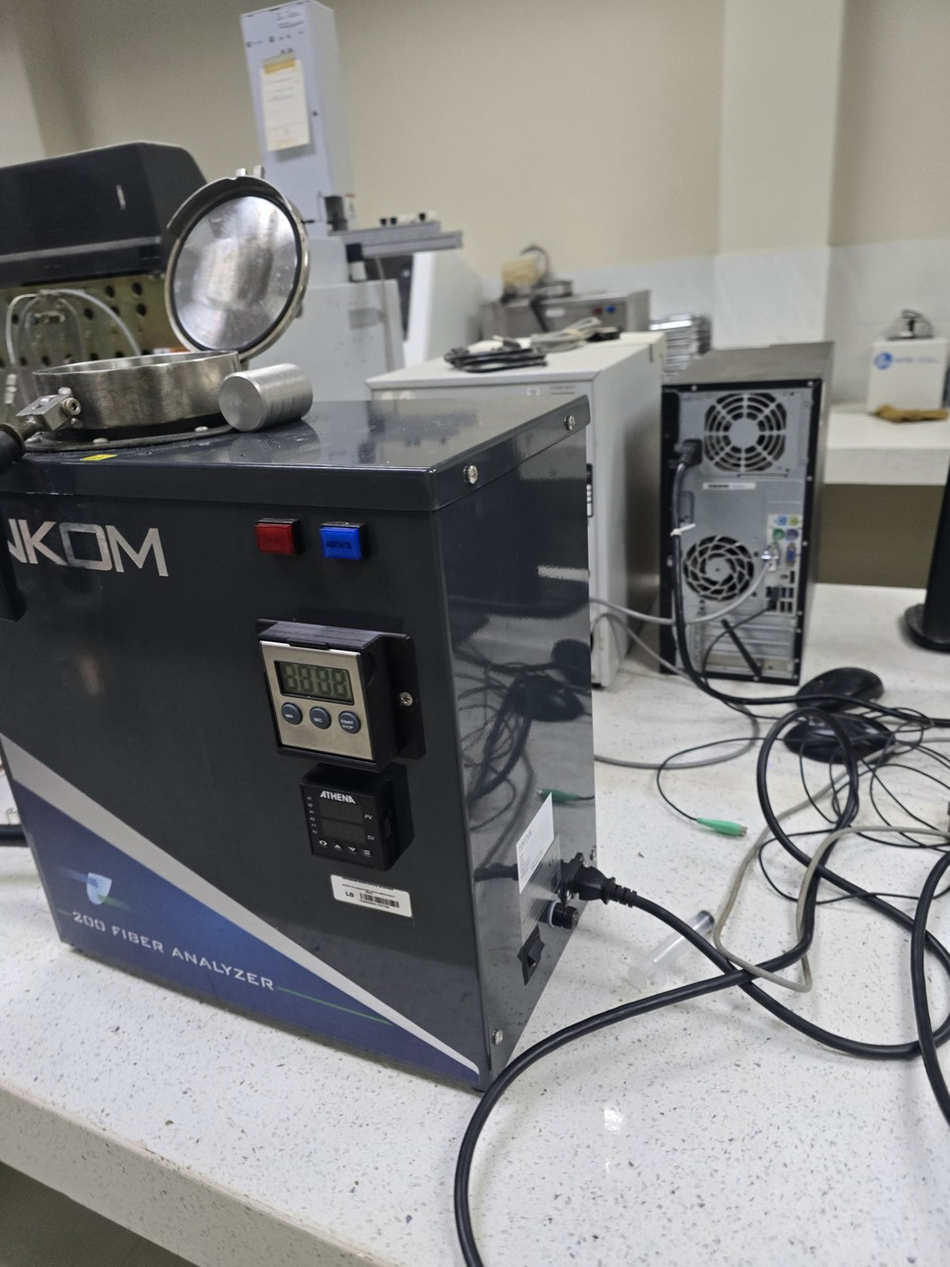ankom_200_fiber_analyzer: (0, 152, 681, 1151)
